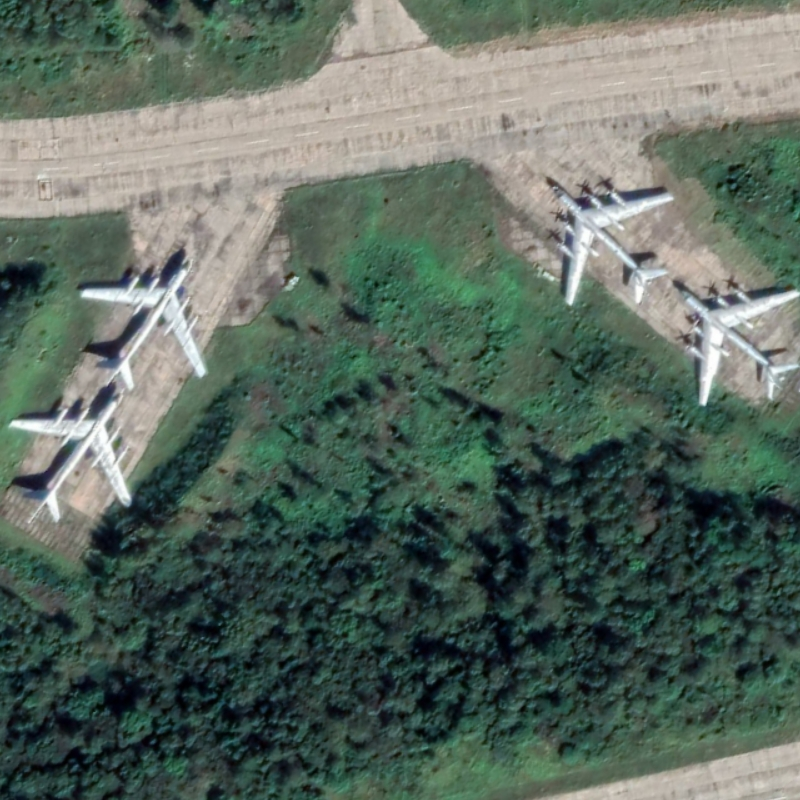A17: (5, 386, 136, 530), (76, 256, 210, 391), (544, 184, 678, 310), (671, 285, 800, 407)
